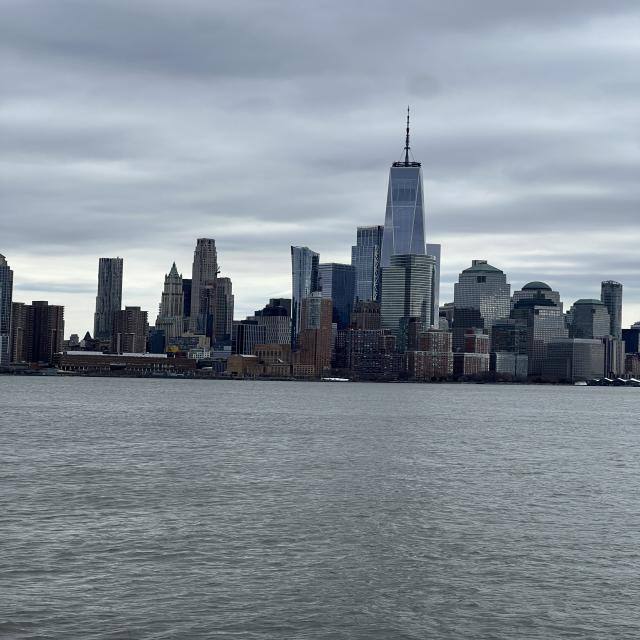WTC: (382, 108, 428, 256)
